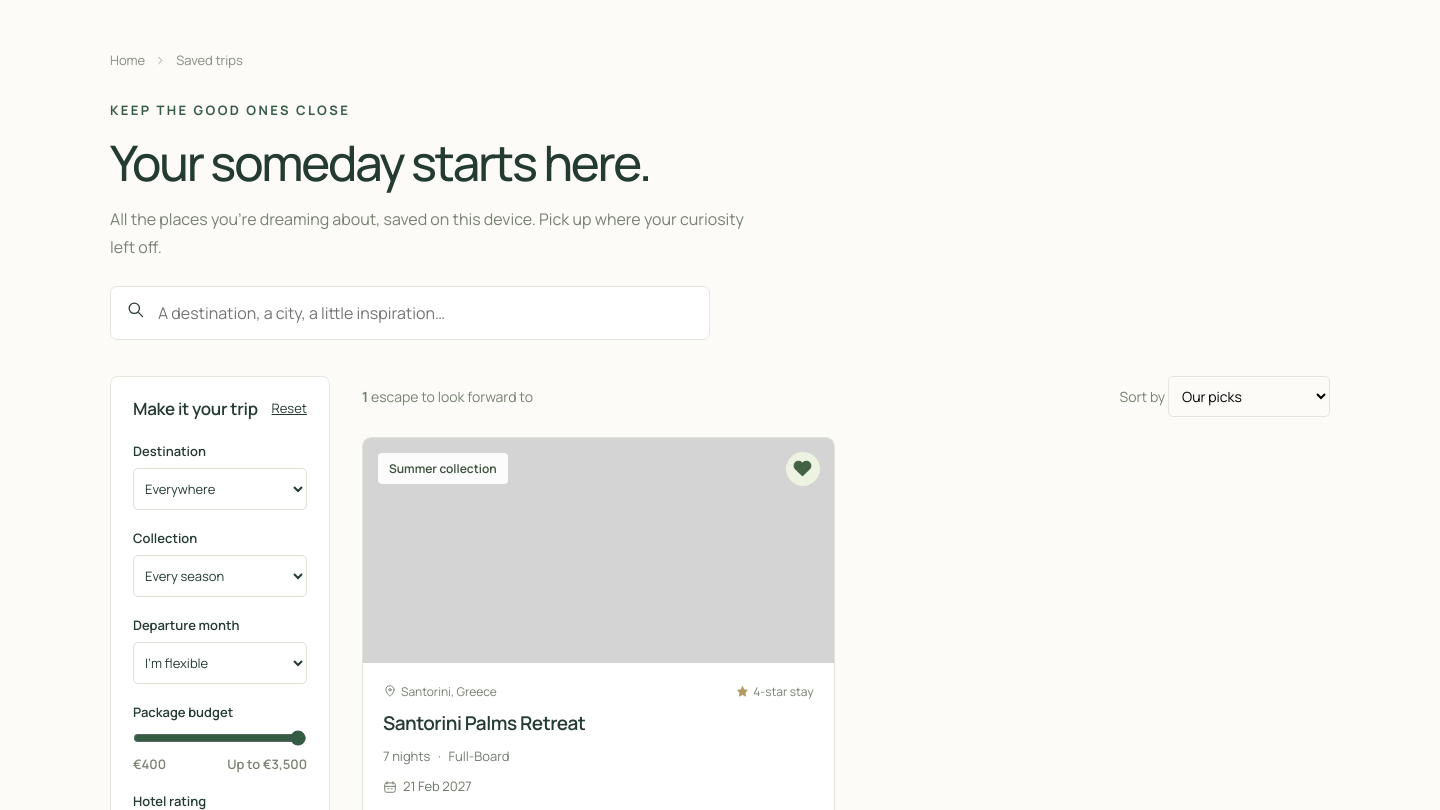
Scenario: saved trips survive reload and can be removed
Expected: the message shows "1 escape", [362,387,533,406]
Click the button named "Unsave trip": [802, 469] box [786,452,820,486]
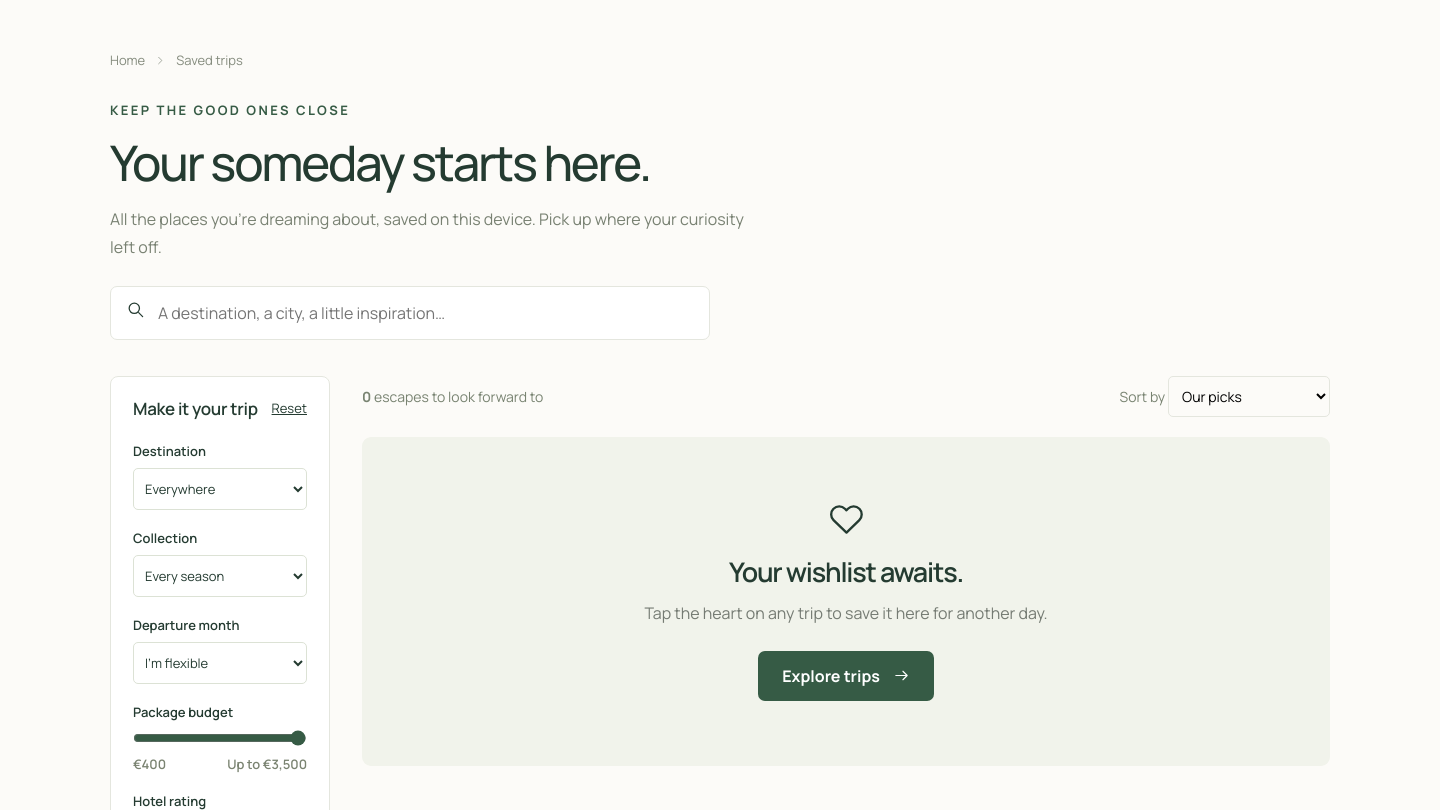
Expected: the heading "Your wishlist awaits." is shown, [729,553,963,590]
